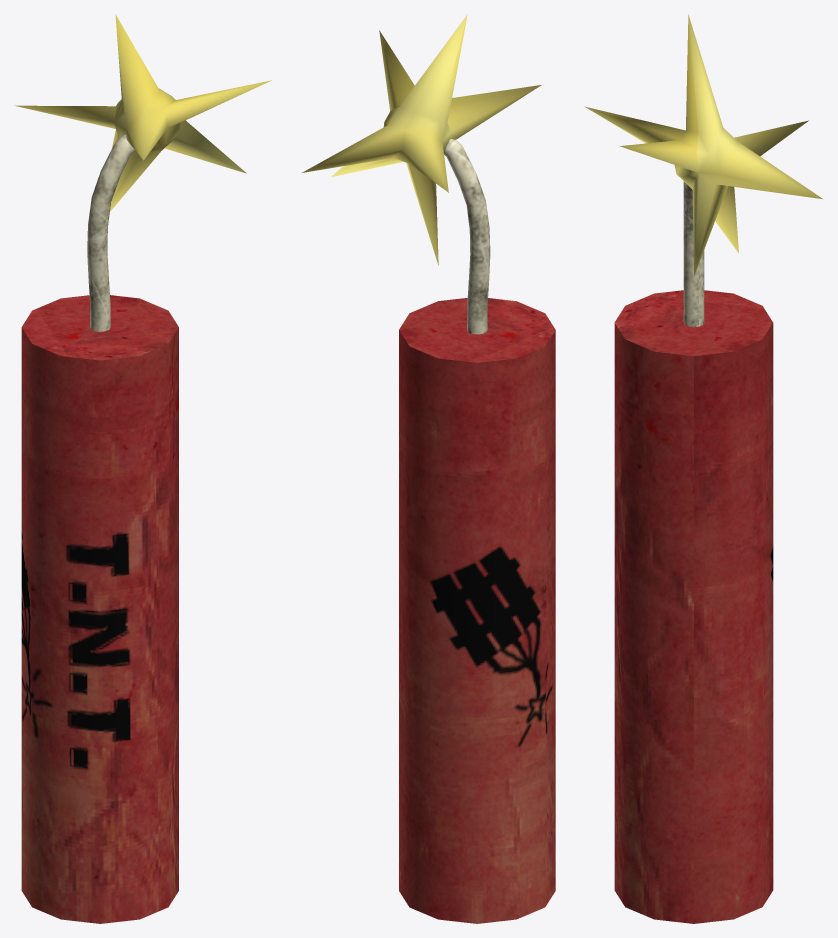
File: PetarAMeche_Munitions.obj
3 renders of one model, left to right at view 1: azimuth 30°, elevation 25°; view 2: azimuth 150°, elevation 25°; view 3: azimuth 270°, elevation 25°, orthographic.
Visible parts, largest first — view 1: projectile_petard; view 2: projectile_petard; view 3: projectile_petard.
Boxes of the visible parts, <box> form: projectile_petard: <box>15,14,271,923</box>; projectile_petard: <box>302,14,555,923</box>; projectile_petard: <box>585,14,822,923</box>.
Size of the model in its own units: 15.75 by 61.19 by 15.04.
1 material, 1 textured.
